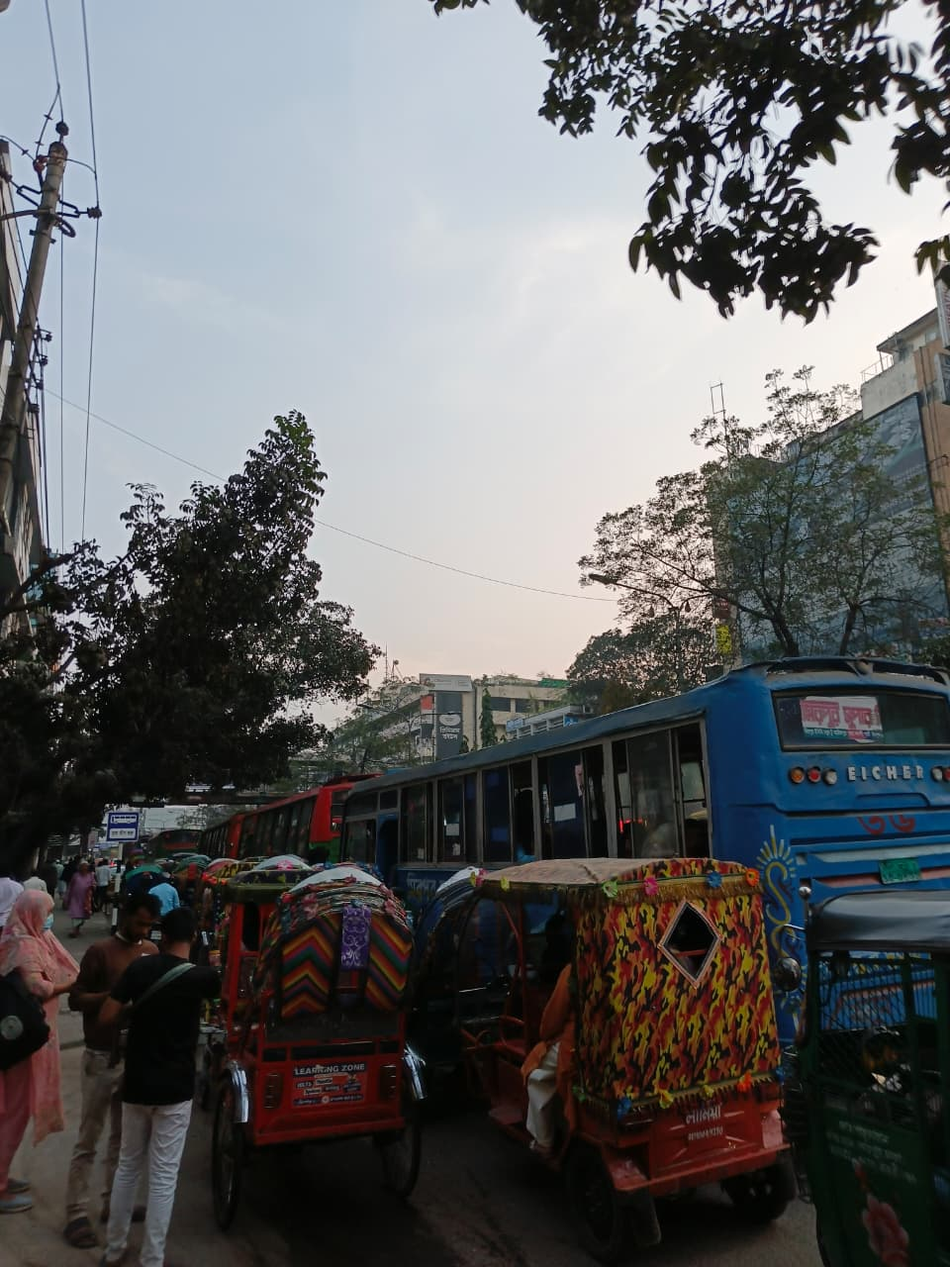auto-ricksaw: (389, 849, 807, 1247)
